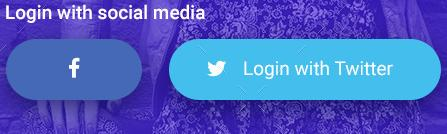button: (167, 38, 442, 101), (6, 38, 142, 102)
